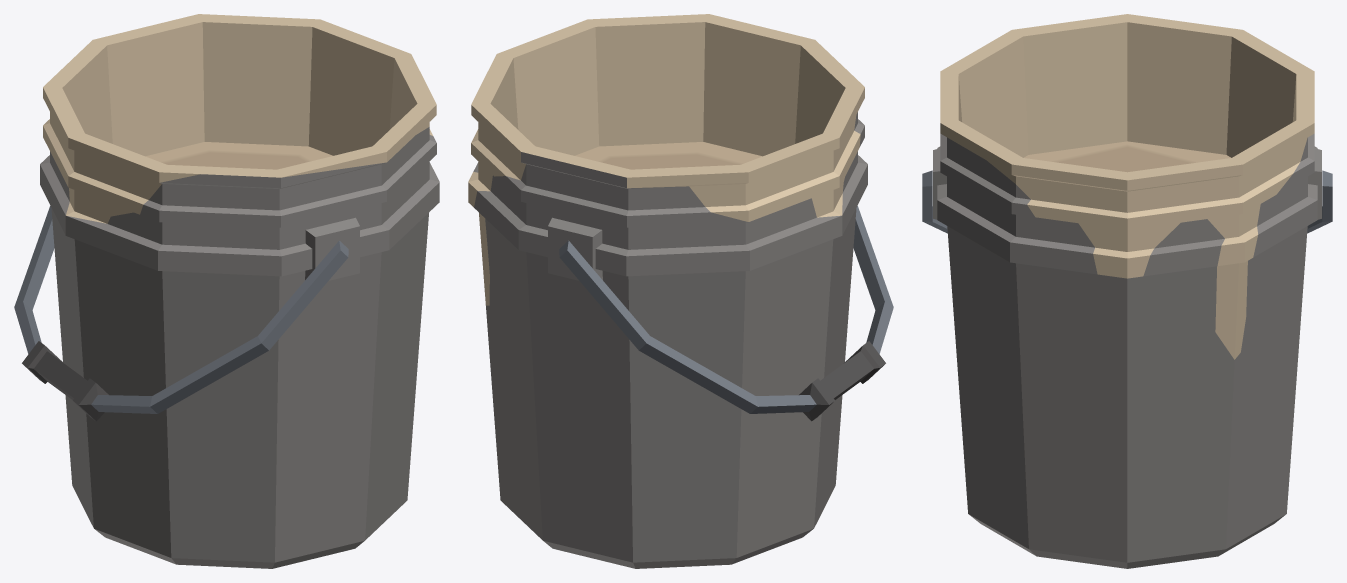
The model's file is SM_Prop_Paint_Bucket_Open_01.glb.
3 views of the same model, side by side, from view 1: azimuth 30°, elevation 25°; view 2: azimuth 150°, elevation 25°; view 3: azimuth 270°, elevation 25° (orthographic).
Parts seen in each view (by area): view 1: SM_Prop_Paint_Bucket_Open_01, SM_Prop_Paint_Bucket_Open_01_Handle; view 2: SM_Prop_Paint_Bucket_Open_01, SM_Prop_Paint_Bucket_Open_01_Handle; view 3: SM_Prop_Paint_Bucket_Open_01, SM_Prop_Paint_Bucket_Open_01_Handle.
Boxes of the visible parts, <box> form: SM_Prop_Paint_Bucket_Open_01: <box>40,14,439,568</box>; SM_Prop_Paint_Bucket_Open_01_Handle: <box>14,206,348,421</box>; SM_Prop_Paint_Bucket_Open_01: <box>468,14,867,568</box>; SM_Prop_Paint_Bucket_Open_01_Handle: <box>559,206,893,421</box>; SM_Prop_Paint_Bucket_Open_01: <box>933,14,1321,568</box>; SM_Prop_Paint_Bucket_Open_01_Handle: <box>922,170,1332,233</box>.
Bounding box in the file's own units: 0.4776 × 0.5129 × 0.4694.
1 material, 1 textured.
